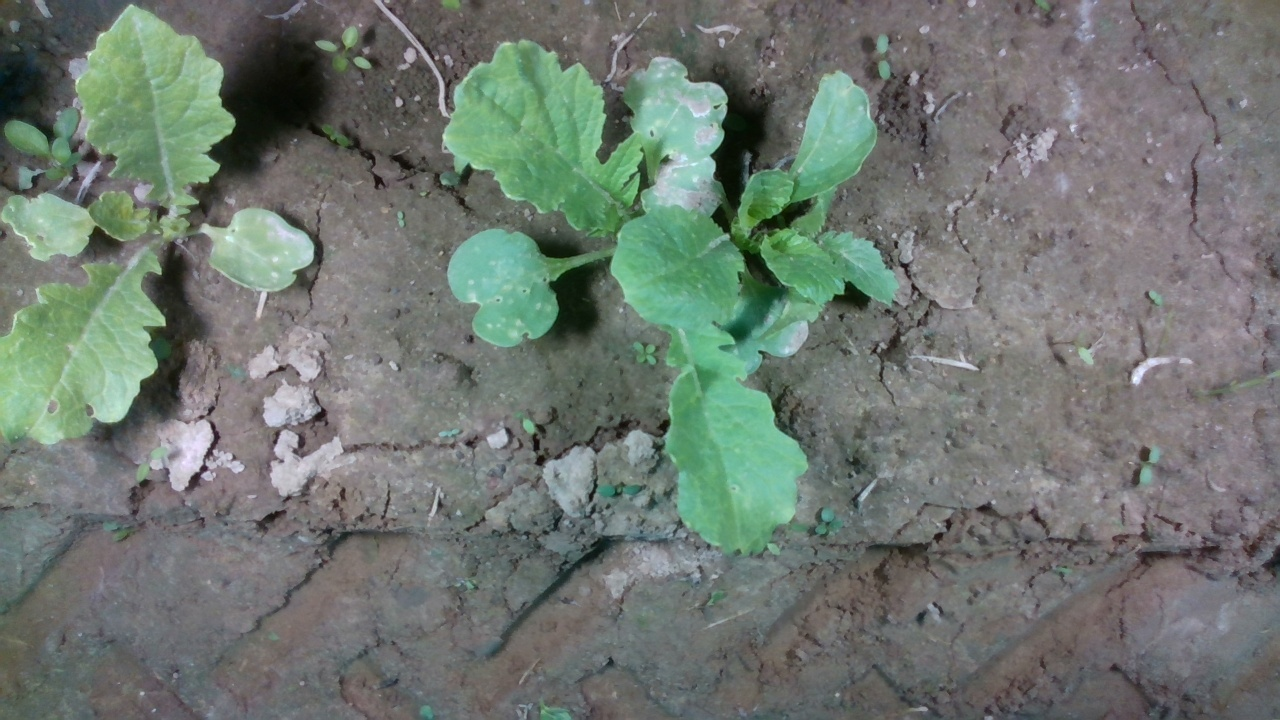weed: (312, 21, 374, 73), (132, 445, 167, 485), (1137, 444, 1161, 486), (874, 31, 893, 81), (317, 122, 352, 148), (631, 340, 657, 367), (1148, 288, 1163, 306), (395, 209, 406, 230)
